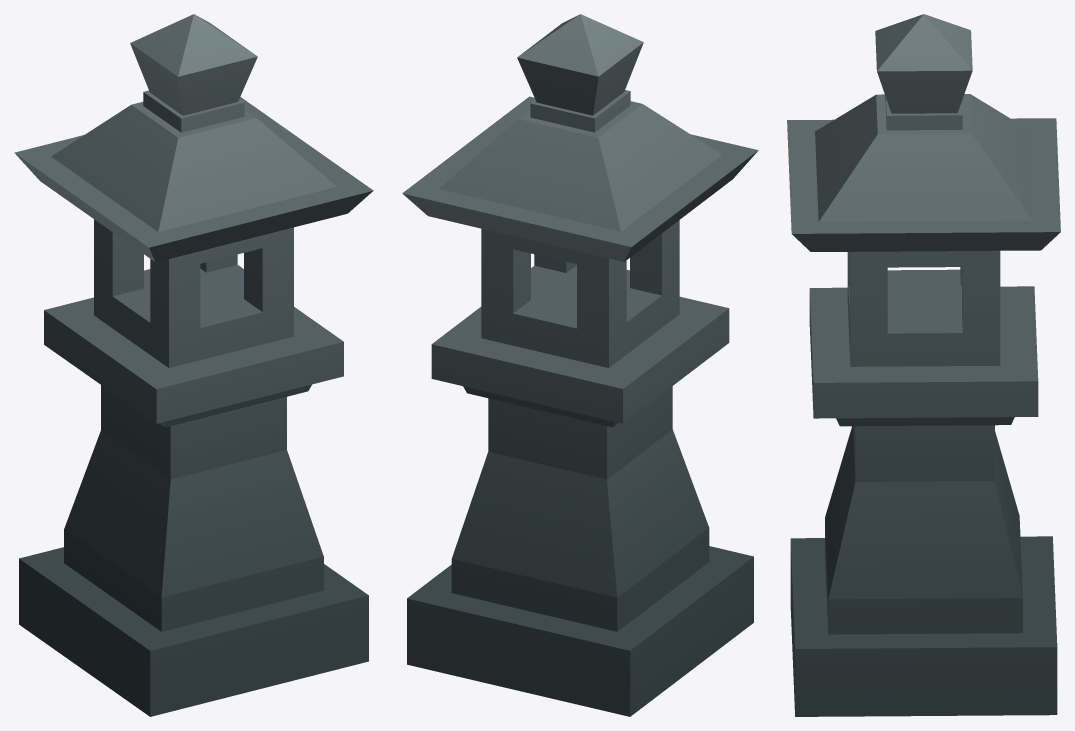
File: StoneLantern.fbx
3 renders of one model, left to right at view 1: azimuth 30°, elevation 25°; view 2: azimuth 150°, elevation 25°; view 3: azimuth 270°, elevation 25°, orthographic. The views are drawn at different scales.
Visible parts, largest first — view 1: StoneLantern.009; view 2: StoneLantern.009; view 3: StoneLantern.009.
Part boxes in pixels (x1,y1,x2,y2): StoneLantern.009: [14, 14, 373, 716]; StoneLantern.009: [402, 14, 758, 716]; StoneLantern.009: [787, 14, 1060, 716].
Bounding box in the file's own units: 0.6581 × 1.71 × 0.6581.
Materials: 1 (1 with a texture image).
